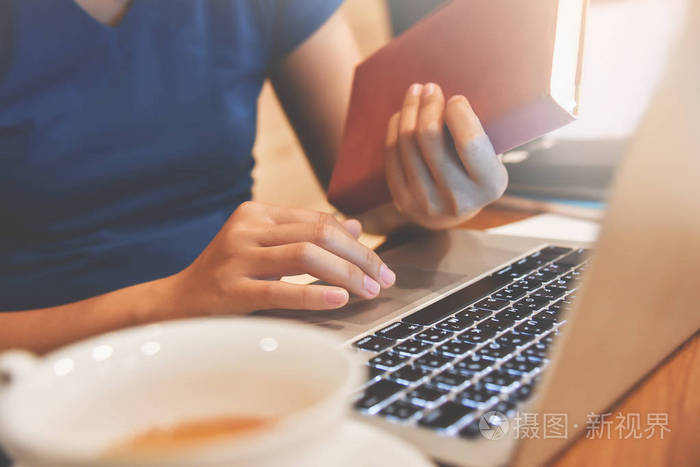no-phone: (377, 49, 510, 231)
